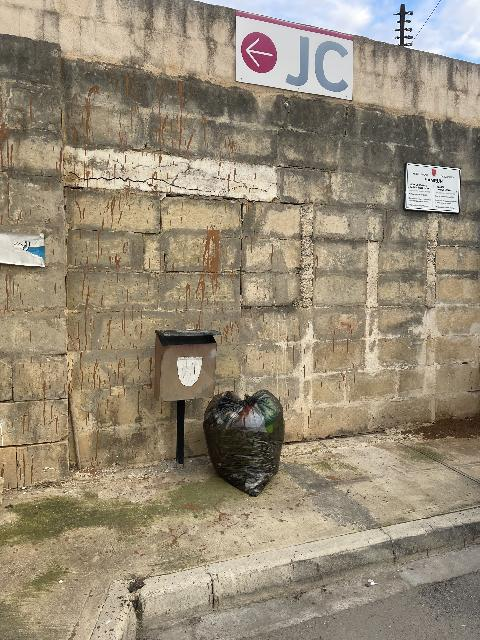Recyclable -Grey-: (203, 390, 284, 497)
